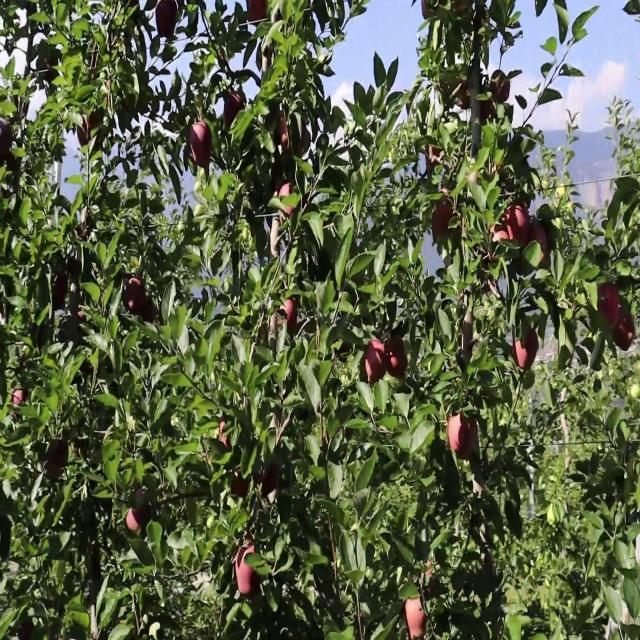apple: (448, 412, 480, 462), (236, 547, 261, 599), (188, 120, 213, 169), (596, 284, 621, 329), (364, 341, 387, 388), (516, 327, 540, 372), (508, 206, 532, 249), (388, 334, 409, 382), (404, 597, 428, 639), (488, 220, 511, 263), (532, 220, 552, 268), (124, 277, 147, 315), (616, 312, 636, 354), (156, 1, 178, 39), (224, 92, 245, 130), (432, 206, 455, 240), (464, 312, 480, 357), (424, 142, 446, 174), (492, 71, 511, 107), (280, 298, 299, 332), (492, 220, 511, 254), (48, 447, 67, 478), (424, 568, 443, 597), (280, 184, 295, 220), (232, 469, 249, 500), (480, 99, 496, 128), (248, 0, 268, 23), (460, 78, 473, 112), (12, 391, 27, 420), (128, 511, 145, 535), (220, 419, 232, 453), (264, 469, 278, 498), (280, 120, 291, 153), (4, 120, 13, 156), (452, 0, 471, 14), (88, 113, 101, 133), (136, 490, 147, 510), (20, 625, 34, 639), (636, 533, 640, 569), (76, 312, 87, 322)
